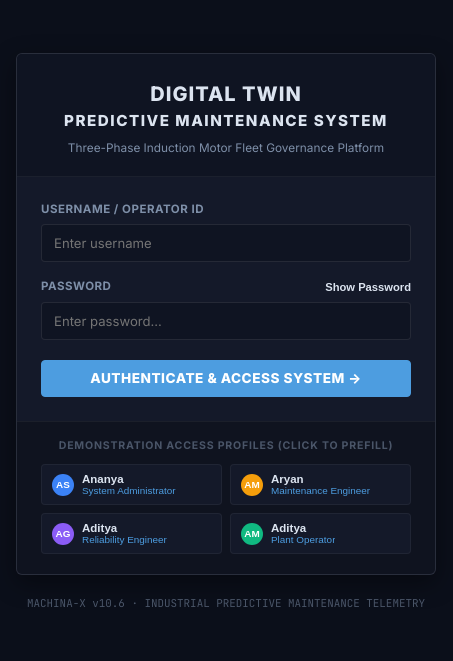
Test: Phase 10.6 — Login Authentication & Role-Based Access Control › 1. Login Page Interface › displays error message when submitted with invalid credentials
Type "unknown_user" into the field labelled "Username / Operator ID" at (226, 243), box [41,224,411,262]
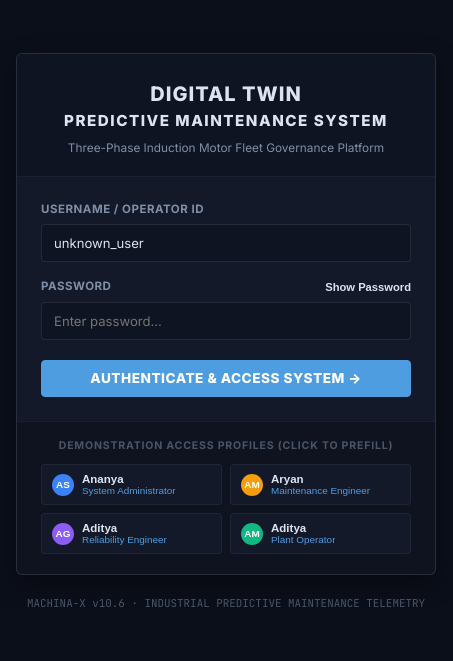
Type "wrong_password" into the password field labelled "Password" at (226, 321), box [41,302,411,340]
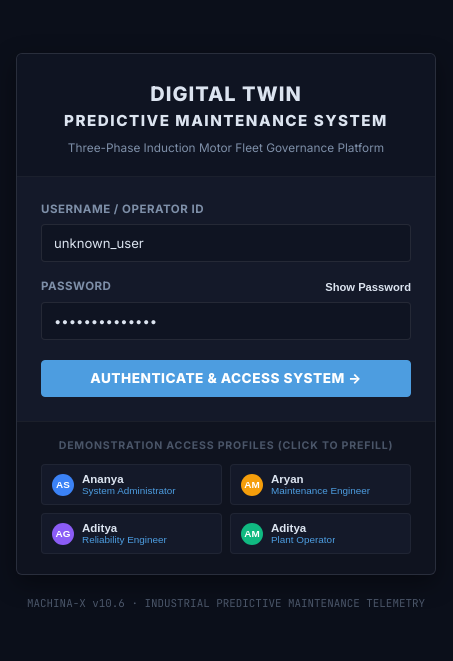
Click the button "AUTHENTICATE & ACCESS SYSTEM →" at (226, 378), box [41,360,411,397]
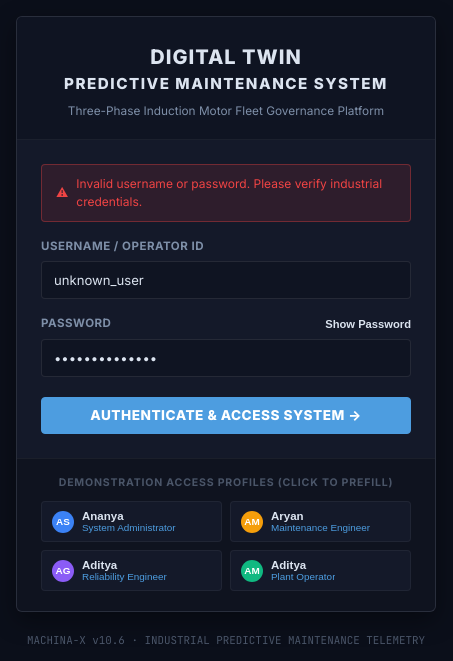
Expected: the text "Invalid username or password. Please verify industrial credentials." is shown, [76,175,396,211]
